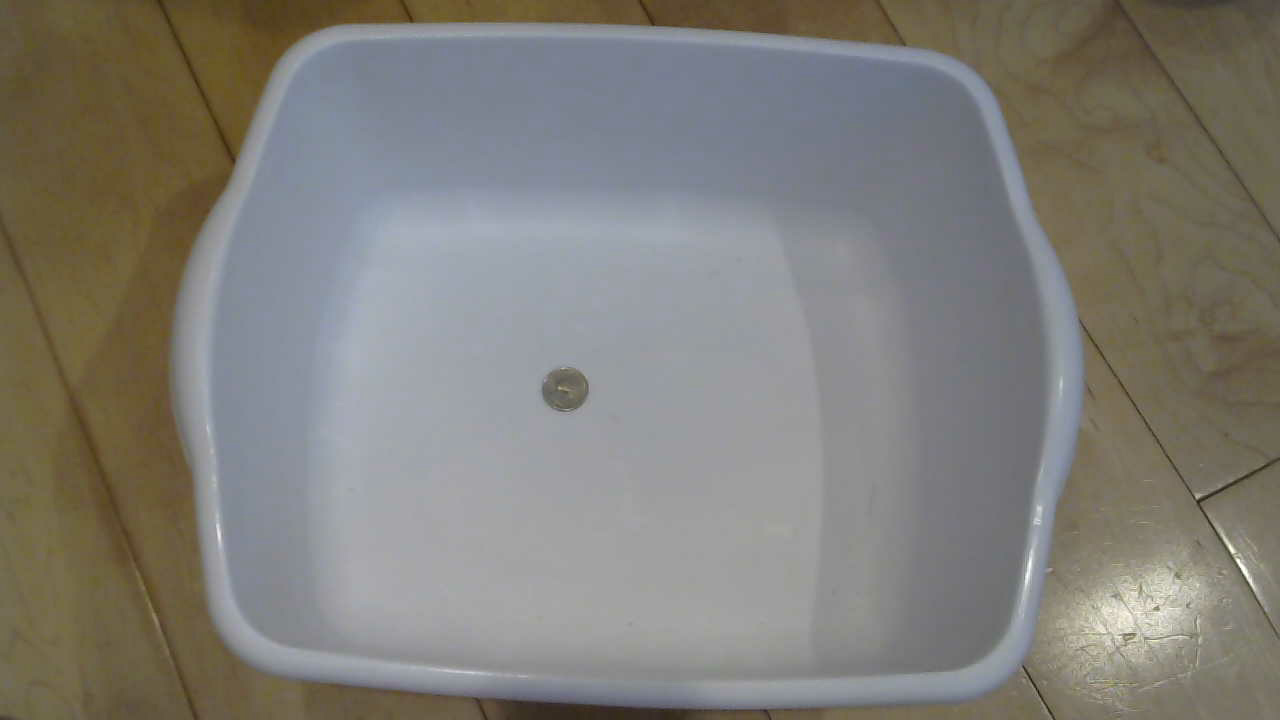coin: (535, 361, 599, 420)
